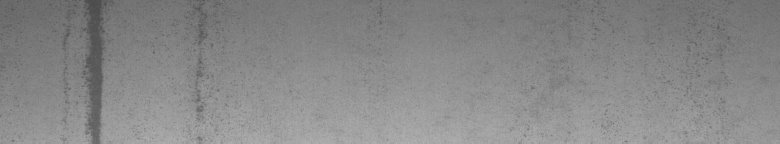hd: (63, 4, 113, 136)
